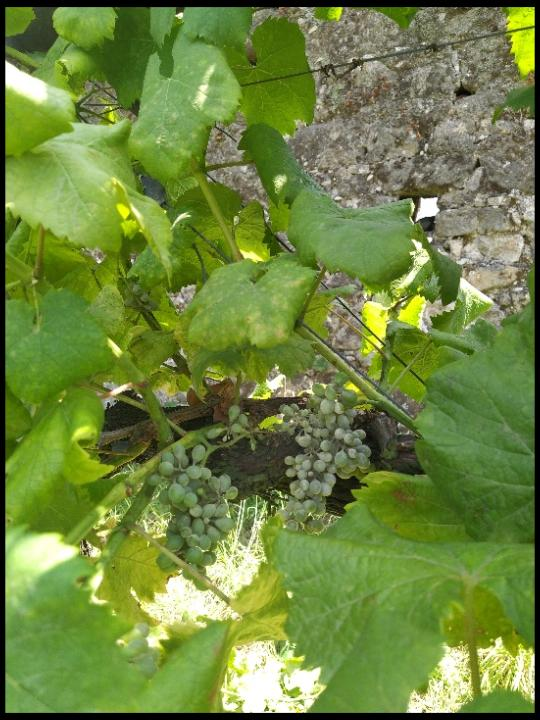grape: (277, 384, 376, 532), (144, 441, 239, 593)
